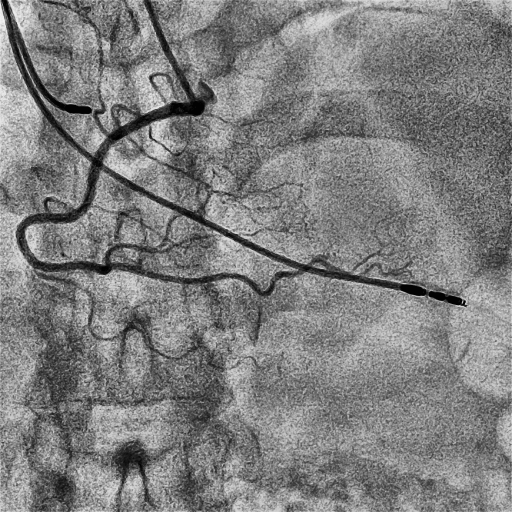pborca: (105, 189, 213, 262)
pda: (113, 252, 380, 297)
rca: (16, 104, 176, 275)
